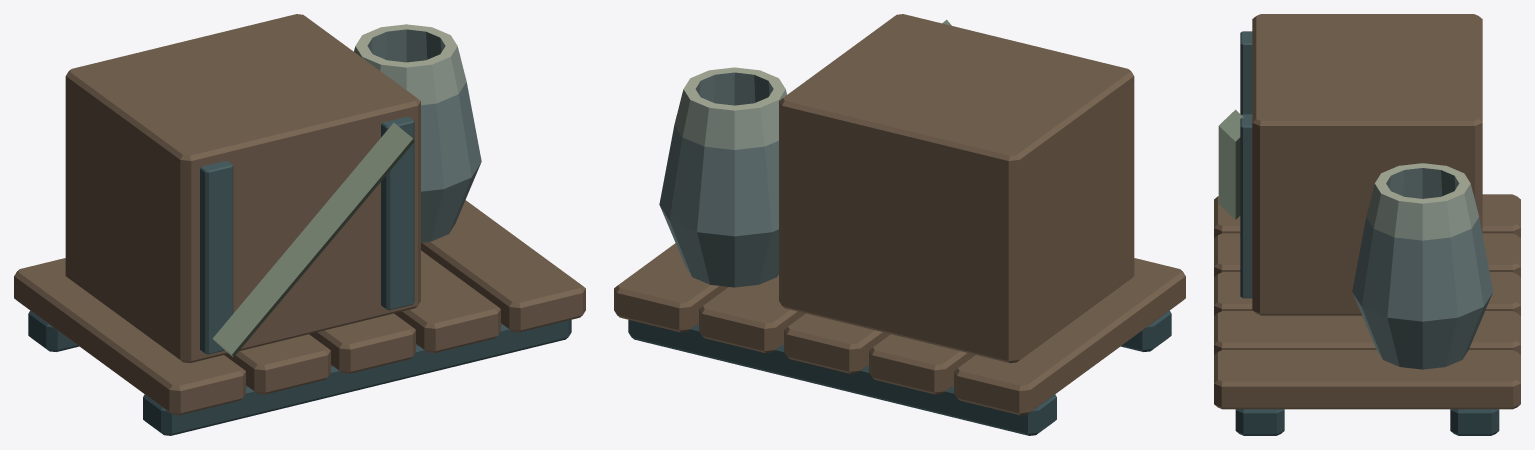
The model's file is cargo-pallet.glb.
3 renders of one model, left to right at view 1: azimuth 30°, elevation 25°; view 2: azimuth 150°, elevation 25°; view 3: azimuth 270°, elevation 25°, orthographic. The views are drawn at different scales.
Visible parts, largest first — view 1: cargo-pallet__body; view 2: cargo-pallet__body; view 3: cargo-pallet__body.
Part boxes in pixels (left/top/right/bottom): cargo-pallet__body: left=14, top=14, right=585, bottom=435; cargo-pallet__body: left=614, top=14, right=1185, bottom=435; cargo-pallet__body: left=1214, top=14, right=1520, bottom=435.
Size of the model in its own units: 1.47 by 0.9 by 1.
